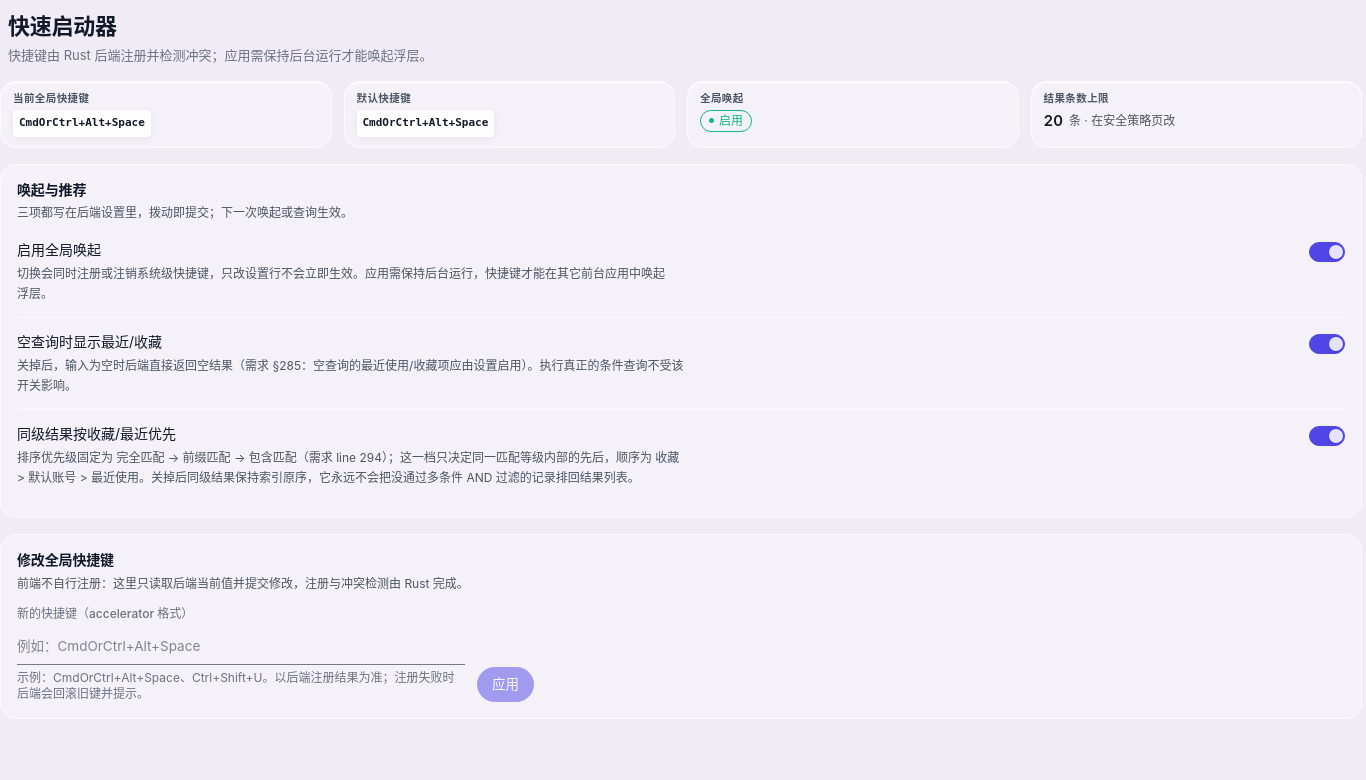
Scenario: 启用全局唤起（唯一必须走 set_launcher_enabled 的开关） › 提交成功后重新读取：概览里的状态随之翻转
Click the switch named "启用全局唤起" at coordinates (1327, 252), box top-left (1309, 242), bottom-right (1345, 262)
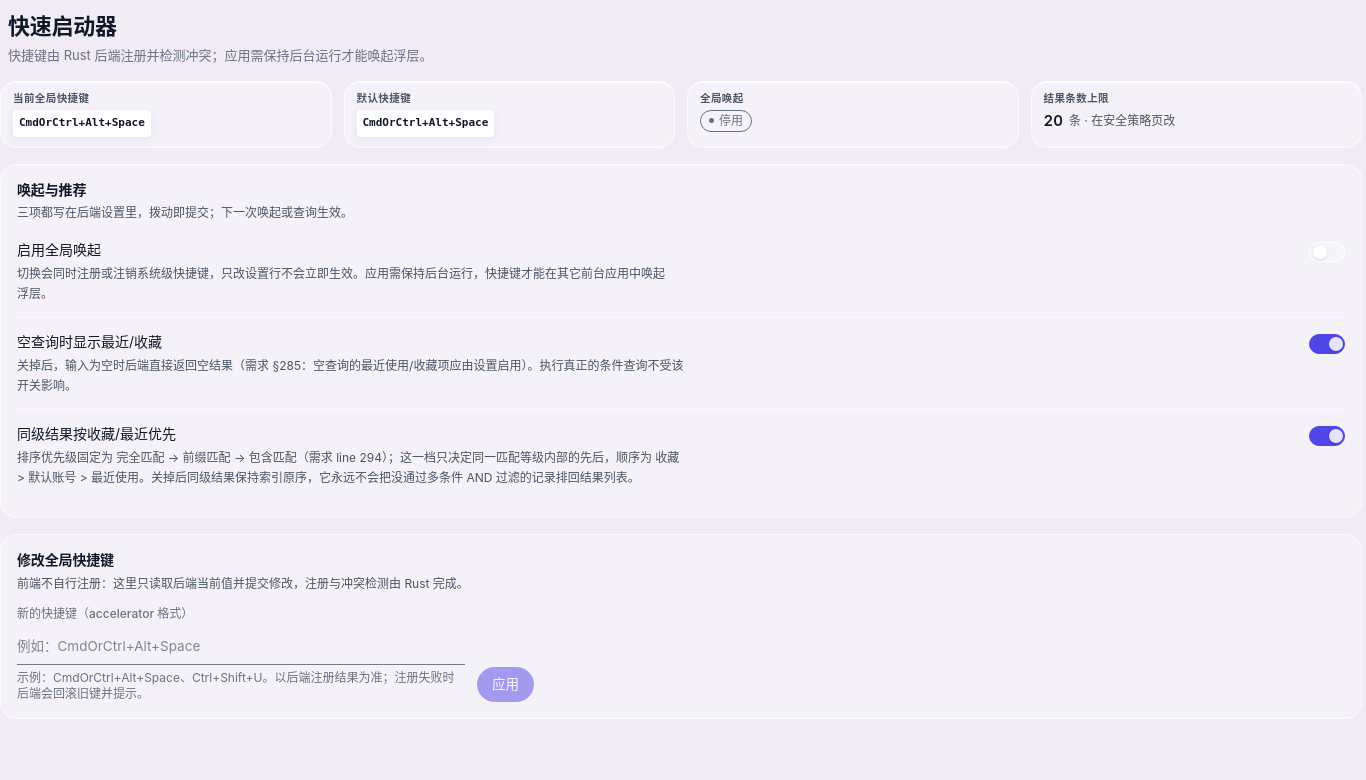
Check: the switch named "启用全局唤起" is not checked, box top-left (1309, 242), bottom-right (1345, 262)
Check: the text "停用" is shown, box top-left (700, 110), bottom-right (752, 132)
